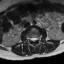CCS_normal: (33, 36, 35, 43)
LFS_normal: (37, 34, 39, 41)
LLS_normal: (35, 35, 37, 42)
RFS_normal: (29, 35, 31, 42)
RLS_normal: (31, 35, 33, 43)
